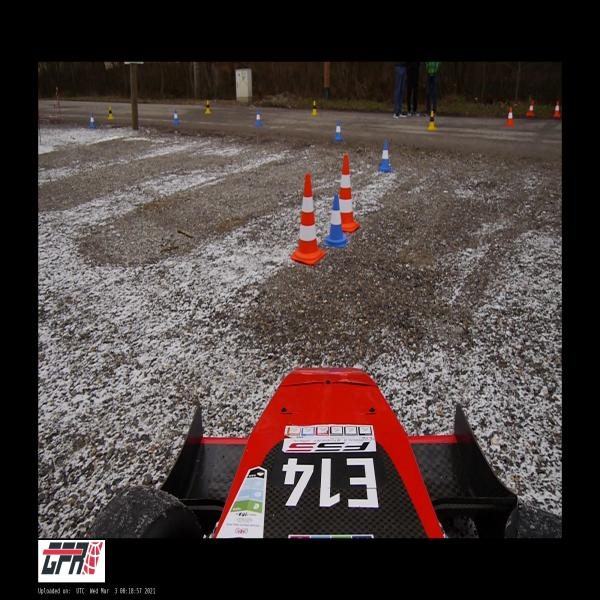blue_cone: (324, 196, 348, 246), (379, 140, 391, 172), (334, 120, 343, 141), (255, 110, 262, 126), (173, 109, 179, 124), (90, 113, 95, 128)
large_orange_cone: (291, 174, 325, 264), (332, 155, 360, 232)
orange_cone: (505, 108, 514, 126), (526, 100, 534, 116), (553, 101, 561, 117)
yellow_cone: (427, 110, 436, 130), (311, 100, 317, 114), (205, 100, 211, 114), (108, 106, 114, 119)
